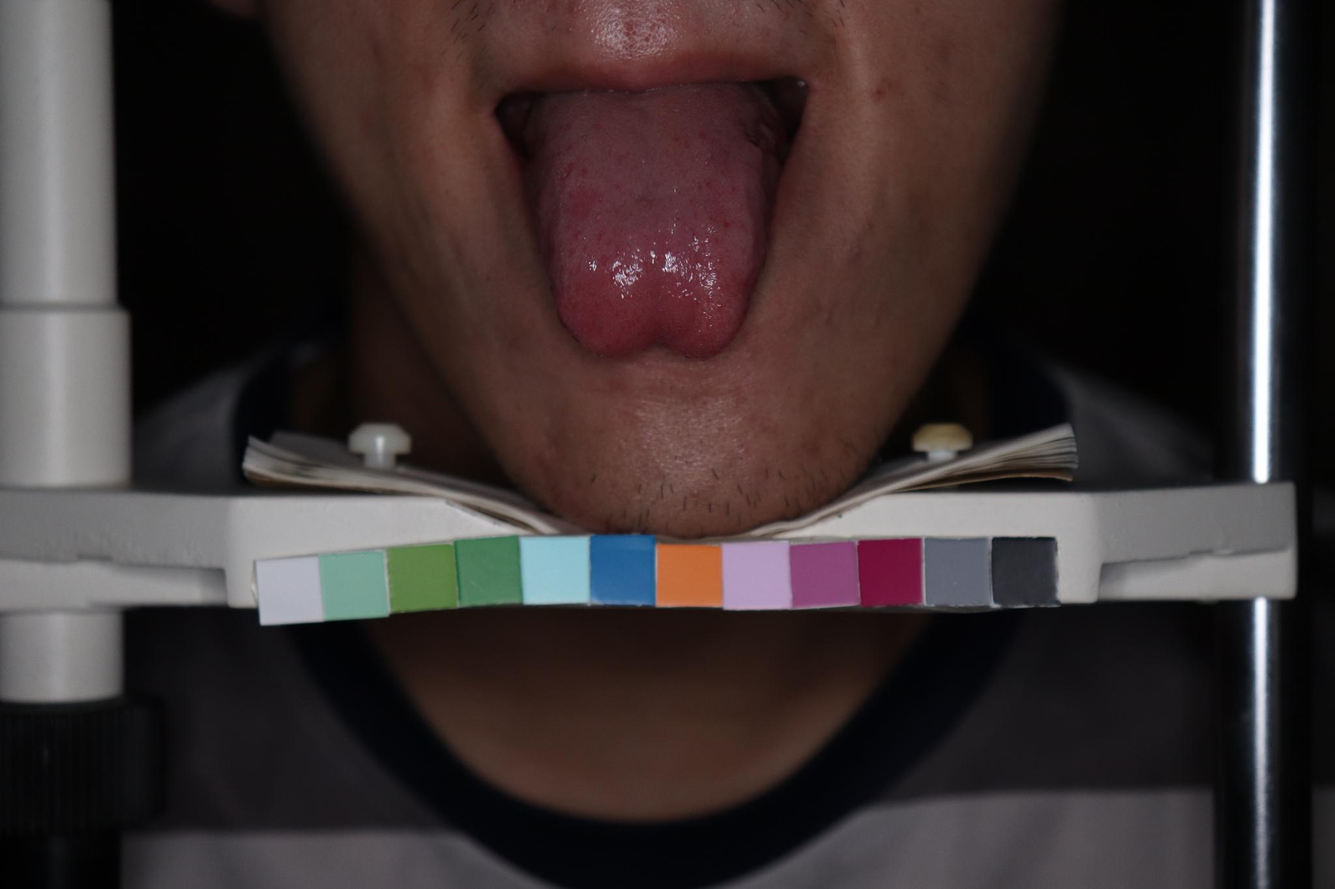baitaishe: (506, 74, 787, 358)
hongdianshe: (721, 218, 730, 229)
hongshe: (506, 74, 787, 358)
xinfeiao: (604, 327, 702, 359)
